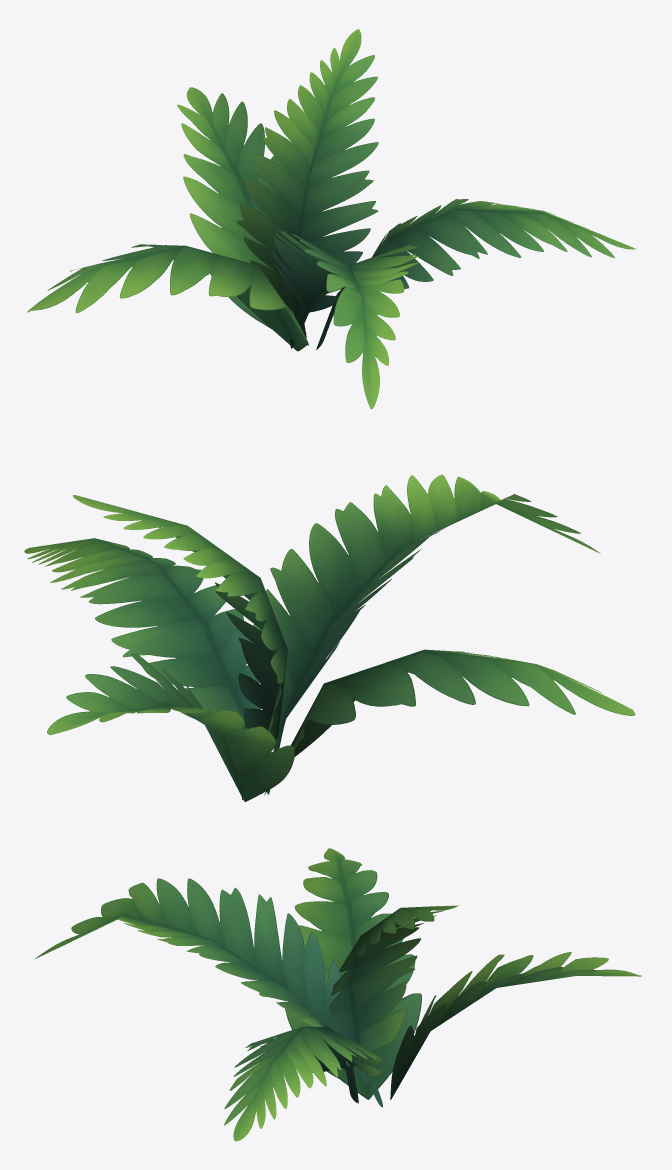
3 renders of one model, top to bottom at view 1: azimuth 30°, elevation 25°; view 2: azimuth 150°, elevation 25°; view 3: azimuth 270°, elevation 25°, orthographic. The views are drawn at different scales.
Parts seen in each view (by area): view 1: pl-fern-bushy; view 2: pl-fern-bushy; view 3: pl-fern-bushy.
Part boxes in pixels (left/top/right/bottom): pl-fern-bushy: left=27, top=29, right=636, bottom=408; pl-fern-bushy: left=24, top=474, right=635, bottom=801; pl-fern-bushy: left=34, top=848, right=641, bottom=1141.
Bounding box in the file's own units: 2.28 × 1.04 × 2.28.
1 material, 1 textured.
